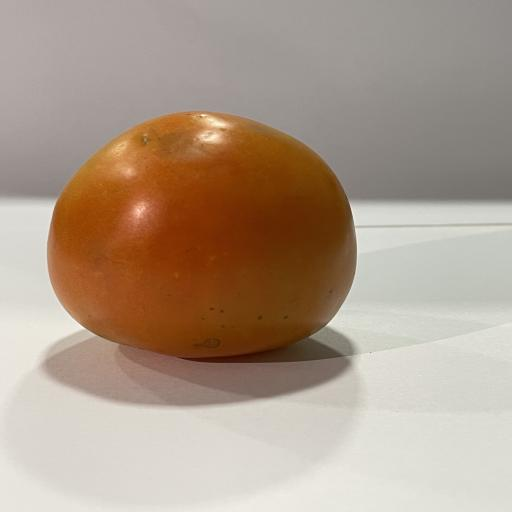unripe: (48, 110, 356, 358)
